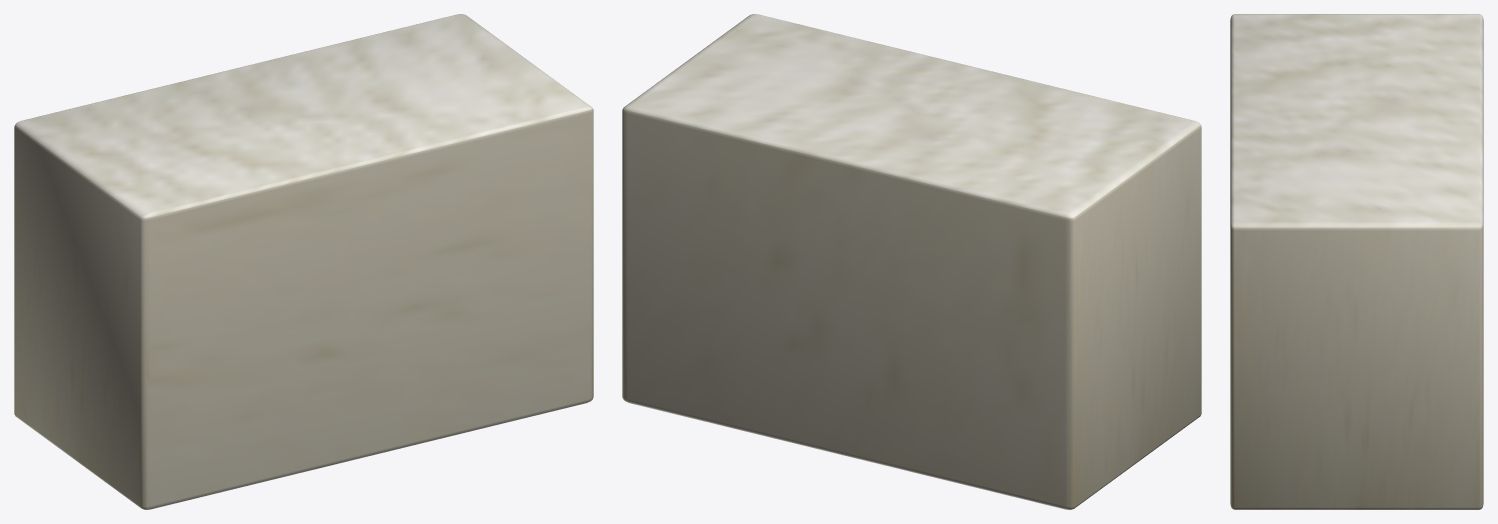
Rendered from tofu_piece.fbx.
The picture shows the model from 3 angles, left to right: view 1: azimuth 30°, elevation 25°; view 2: azimuth 150°, elevation 25°; view 3: azimuth 270°, elevation 25°; orthographic projection. The views are drawn at different scales.
Parts seen in each view (by area): view 1: Tofu Piece; view 2: Tofu Piece; view 3: Tofu Piece.
Part boxes in pixels (x1,y1,x2,y2): Tofu Piece: (14, 14, 593, 509); Tofu Piece: (622, 14, 1201, 509); Tofu Piece: (1230, 14, 1483, 509).
Bounding box in the file's own units: 9.8 × 6.12 × 4.9.
Materials: 1 (1 with a texture image).
